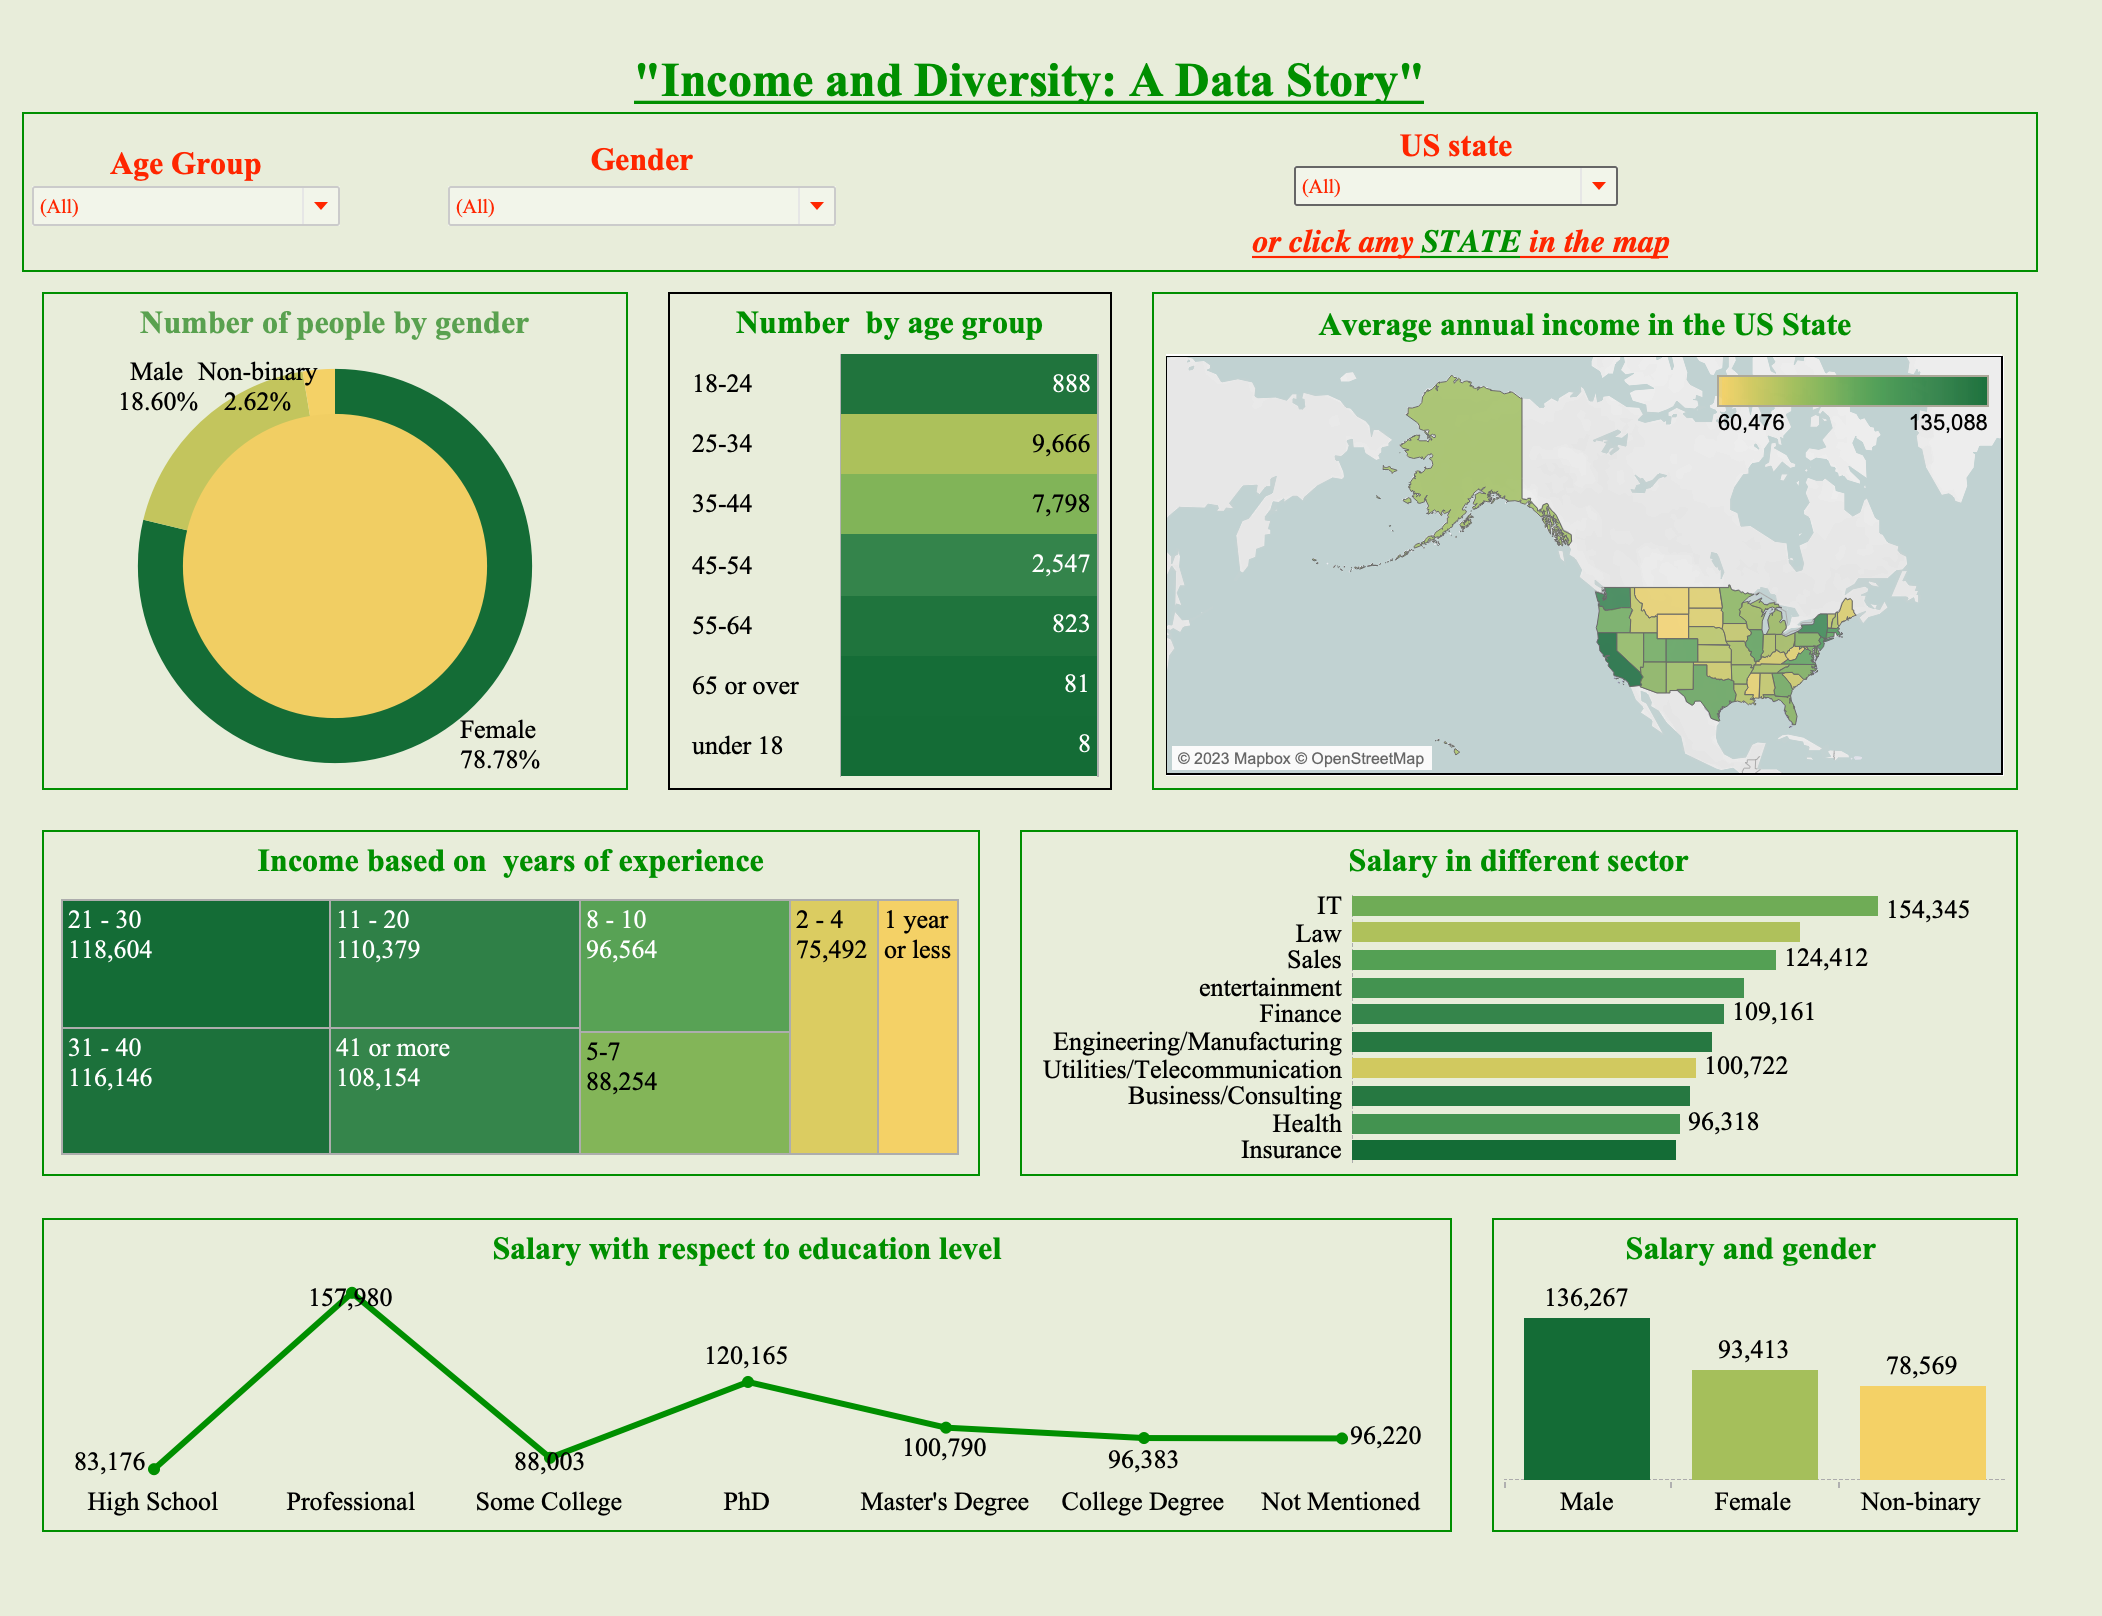

The dashboard page shown, as its layout file describes it:
{"tool":"tableau","page":{"name":"Dashboard 1","canvas":[1024,768],"ordinal":0},"visuals":[{"type":"title","box":[8,8,1008,32]},{"type":"filter","title":"Sheet 8","param":"[federated.14q036h1c3aqwz1ffzrlo1vrtfar].[US state Set]","box":[641,48,168,39]},{"type":"filter","title":"Number by Age group","param":"[federated.14q036h1c3aqwz1ffzrlo1vrtfar].[none:gender:nk]","box":[218,55,200,65]},{"type":"filter","title":"Average salary by sector","param":"[federated.14q036h1c3aqwz1ffzrlo1vrtfar].[none:age_group:nk]","box":[10,57,160,42]},{"type":"text","box":[619,88,217,35]},{"type":"worksheet","title":"Number by gender","mark":"Pie","rows":["Calculation_4726316725686591489","Calculation_4726316725686591489"],"box":[8,120,313.1,269.5]},{"type":"worksheet","title":"Number by Age group","mark":"Square","rows":["age_group"],"box":[321.1,120,242.2,269.5]},{"type":"worksheet","title":"Sheet 8","mark":"Automatic","box":[563.4,120,452.6,269.5]},{"type":"legend","title":"Sheet 8","param":"[federated.14q036h1c3aqwz1ffzrlo1vrtfar].[avg:annual_income_usd:qk]","box":[852,168,144,37]},{"type":"worksheet","title":"Income by experience","mark":"Automatic","box":[8,389.5,489,193.2]},{"type":"worksheet","title":"Average salary by sector","mark":"Automatic","rows":["sector"],"cols":["annual_income_usd"],"box":[497,389.5,519,193.2]},{"type":"worksheet","title":"salary by degree","mark":"Line","rows":["annual_income_usd"],"cols":["education"],"box":[8,582.7,725.3,177.3]},{"type":"worksheet","title":"Average Salary by Gender","mark":"Automatic","rows":["annual_income_usd"],"cols":["gender"],"box":[733.3,582.7,282.7,177.3]}]}

Visuals, with their boxes in screenshot pixels (x1, y1, x2, y2), scaled from the page's 1024x768 canvas onto the 2102x1616 screenshot:
title: [x1=16, y1=17, x2=2086, y2=84]
"Sheet 8" filter: [x1=1316, y1=101, x2=1661, y2=183]
"Number by Age group" filter: [x1=447, y1=116, x2=858, y2=252]
"Average salary by sector" filter: [x1=21, y1=120, x2=349, y2=208]
text: [x1=1271, y1=185, x2=1716, y2=259]
"Number by gender" worksheet (Pie marks): [x1=16, y1=252, x2=659, y2=820]
"Number by Age group" worksheet (Square marks): [x1=659, y1=252, x2=1156, y2=820]
"Sheet 8" worksheet: [x1=1157, y1=252, x2=2086, y2=820]
"Sheet 8" legend: [x1=1749, y1=354, x2=2045, y2=431]
"Income by experience" worksheet: [x1=16, y1=820, x2=1020, y2=1226]
"Average salary by sector" worksheet: [x1=1020, y1=820, x2=2086, y2=1226]
"salary by degree" worksheet (Line marks): [x1=16, y1=1226, x2=1505, y2=1599]
"Average Salary by Gender" worksheet: [x1=1505, y1=1226, x2=2086, y2=1599]
